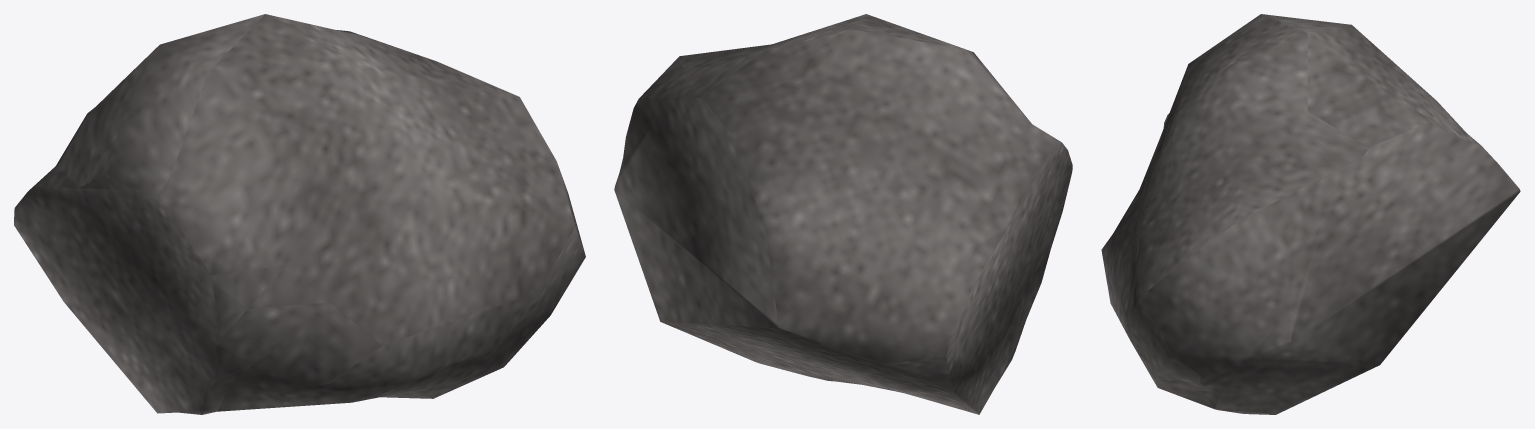
The model's file is boulder_3.glb.
3 views of the same model, side by side, from view 1: azimuth 30°, elevation 25°; view 2: azimuth 150°, elevation 25°; view 3: azimuth 270°, elevation 25° (orthographic). The views are drawn at different scales.
Parts seen in each view (by area): view 1: boulder_3; view 2: boulder_3; view 3: boulder_3.
Boxes of the visible parts, x1=… form: boulder_3: x1=14, y1=14, x2=585, y2=414; boulder_3: x1=614, y1=14, x2=1072, y2=414; boulder_3: x1=1101, y1=14, x2=1520, y2=414.
Size of the model in its own units: 1.98 by 1.69 by 1.91.
Materials: 1 (1 with a texture image).
